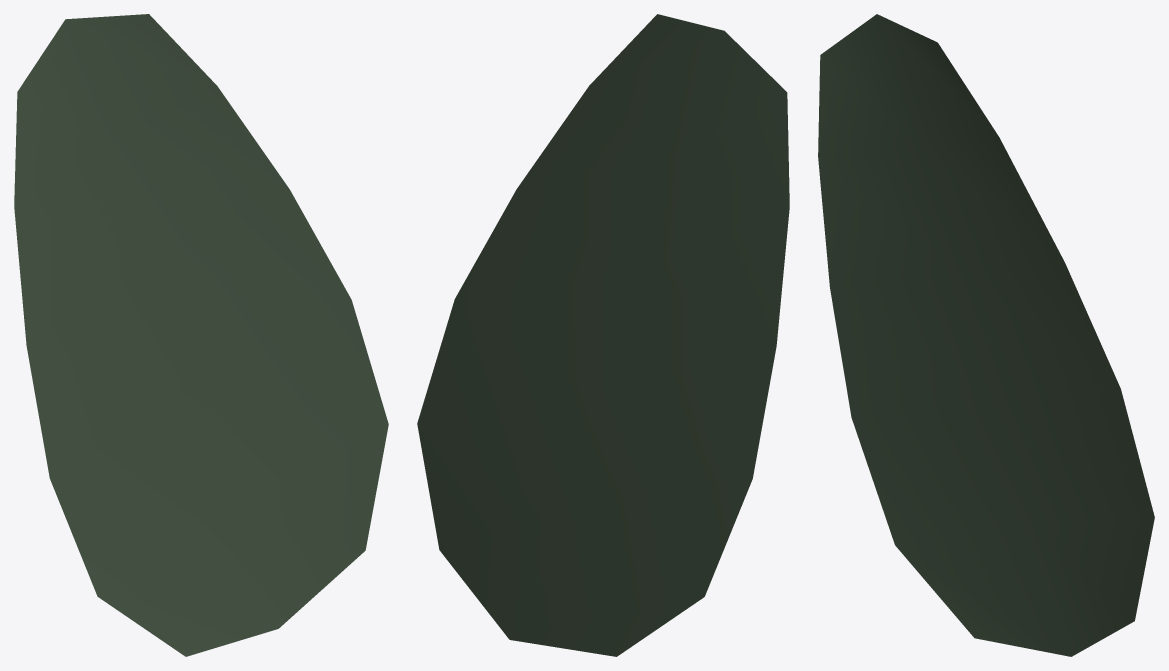
The model's file is duck_feather_flight_tertiary_053.obj.
3 renders of one model, left to right at view 1: azimuth 30°, elevation 25°; view 2: azimuth 150°, elevation 25°; view 3: azimuth 330°, elevation 25°, orthographic. The views are drawn at different scales.
Parts seen in each view (by area): view 1: feather_flight_tertiary_053; view 2: feather_flight_tertiary_053; view 3: feather_flight_tertiary_053.
Part boxes in pixels (bbox=[...]): feather_flight_tertiary_053: bbox=[14, 14, 388, 656]; feather_flight_tertiary_053: bbox=[417, 14, 789, 656]; feather_flight_tertiary_053: bbox=[818, 14, 1154, 656].
Size of the model in its own units: 0.0176 by 0.0298 by 0.000767.
